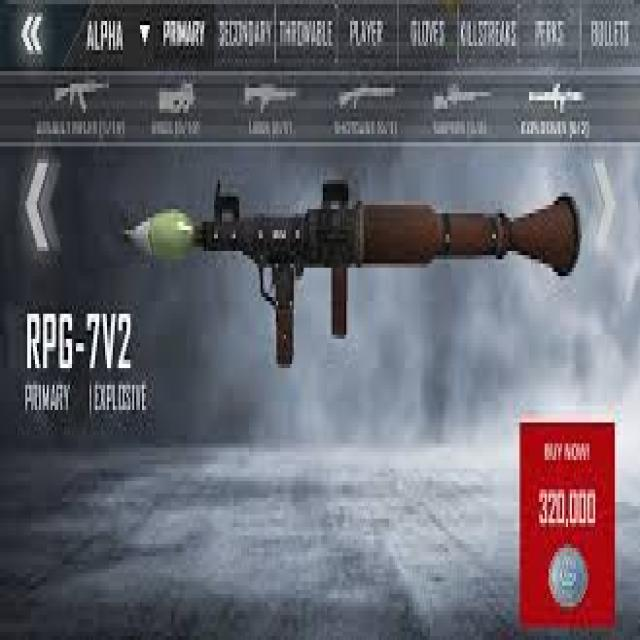Gun: (100, 176, 590, 382)
